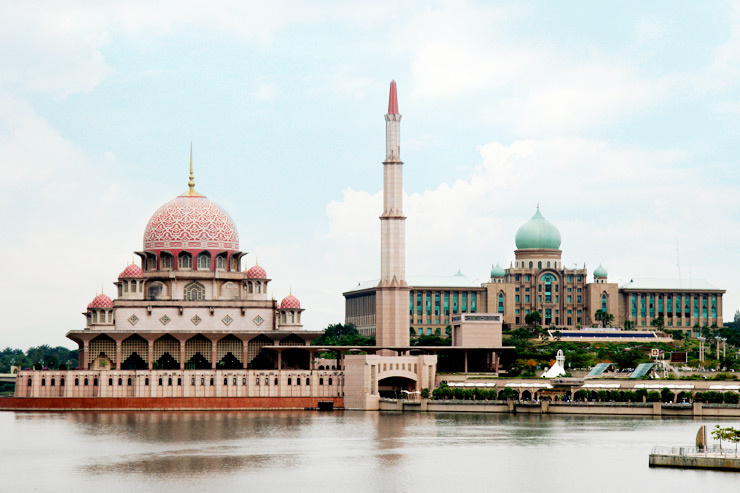Mosque: (68, 79, 730, 401)
